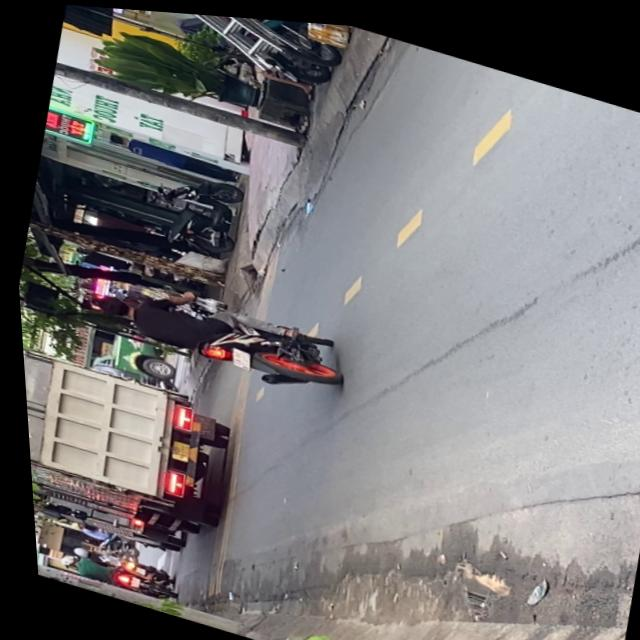licenseplate: (79, 262, 345, 398)
motorcyclist: (87, 288, 131, 320)
nohelmet: (223, 343, 245, 365)
